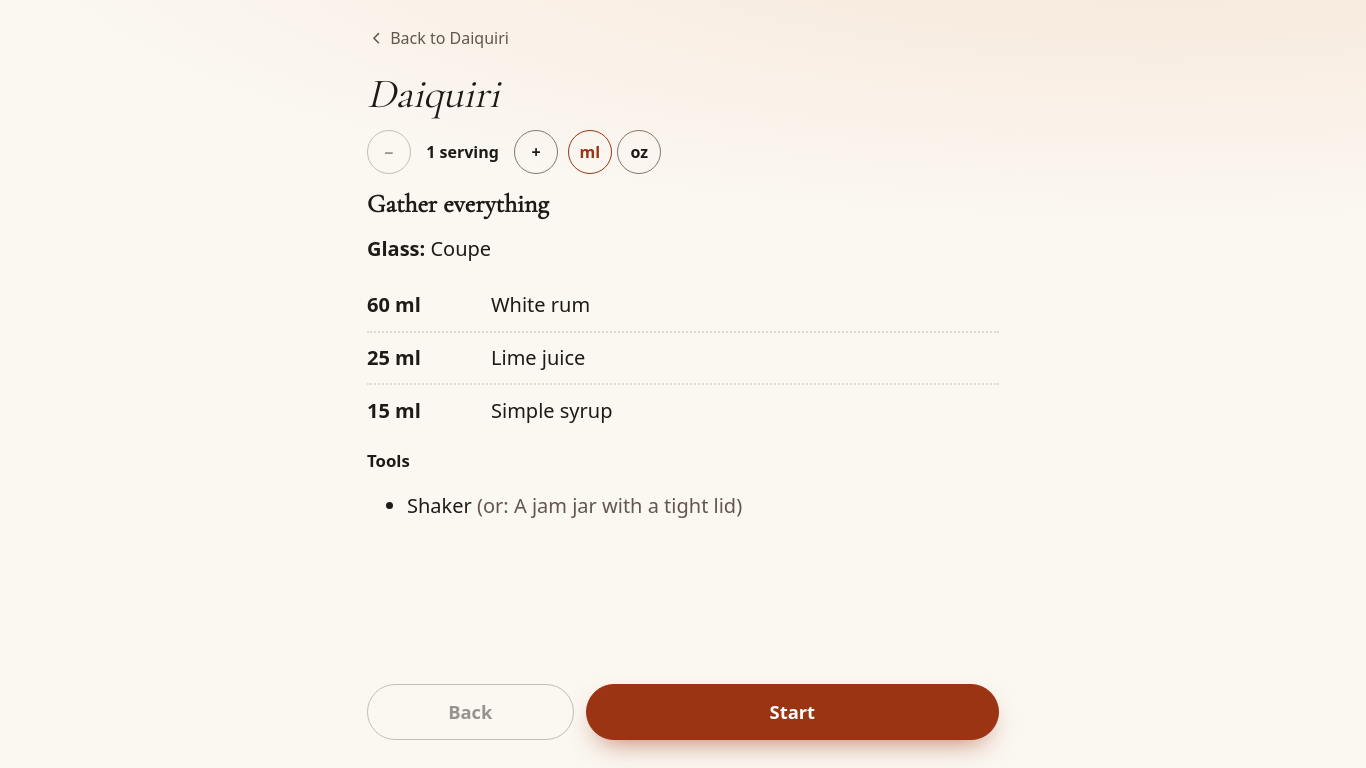
Test: each step shows its ingredients with measures
The width and height of the screenshot is (1366, 768).
Check: the heading "Daiquiri" is shown, box [367,69,499,119]
Step 1. Click the button "Start" → (792, 712), box [586,684,999,740]
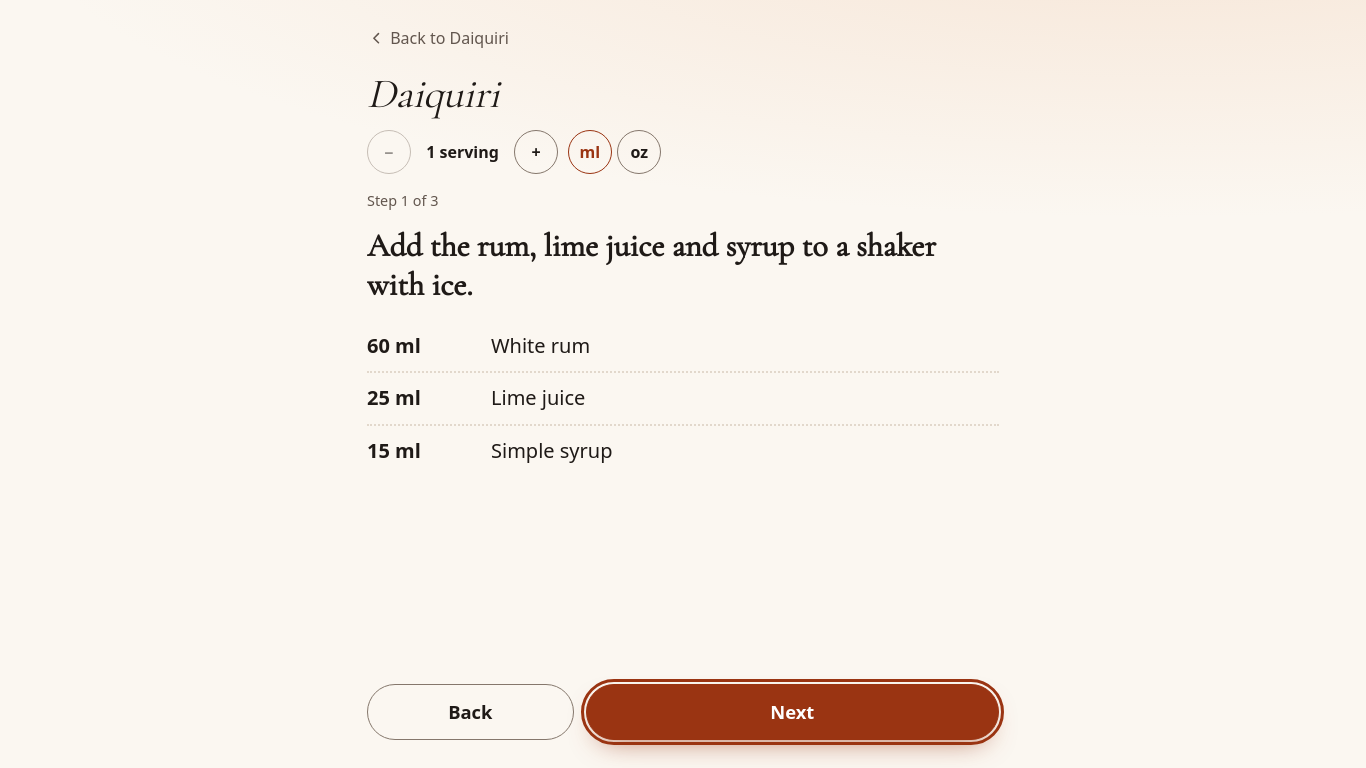
Step 2. Click the button "Next" → (792, 712), box [586,684,999,740]
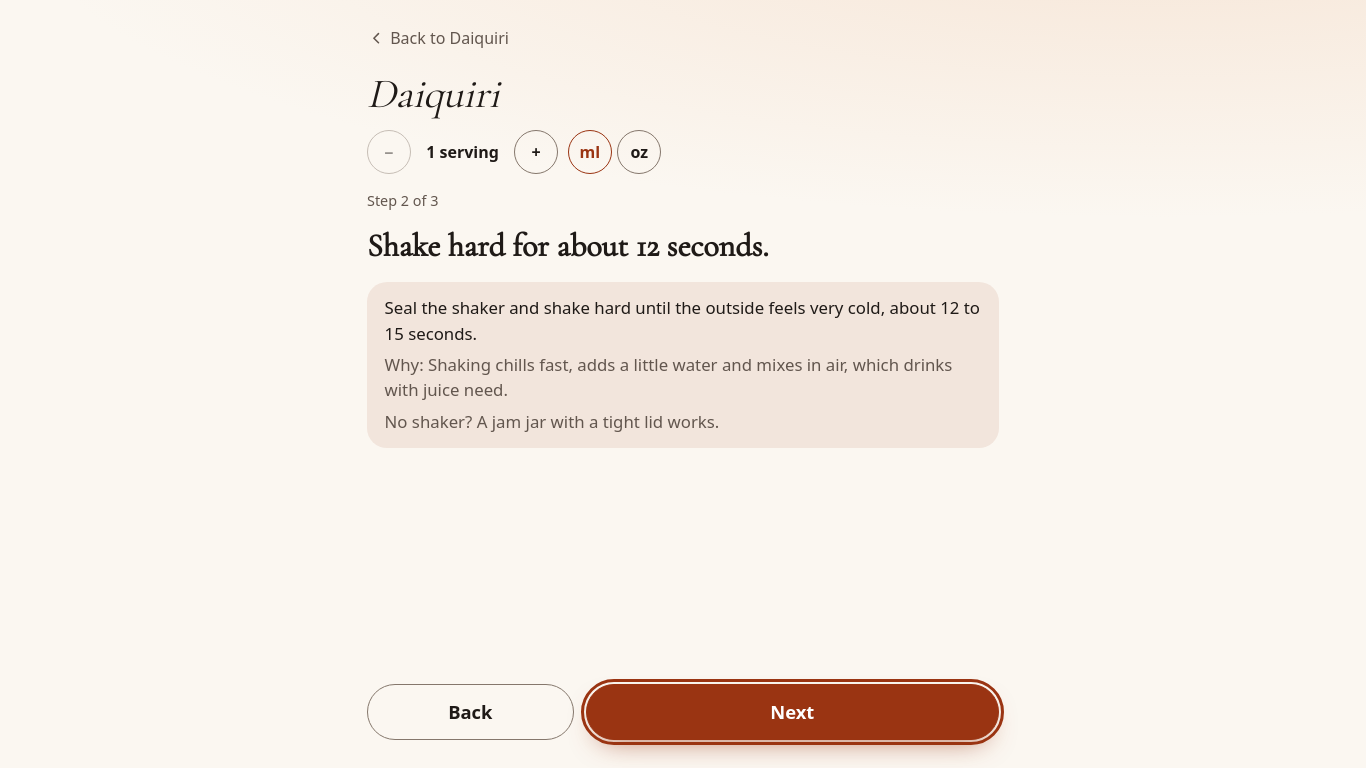
Check: the list "Ingredients" is gone
